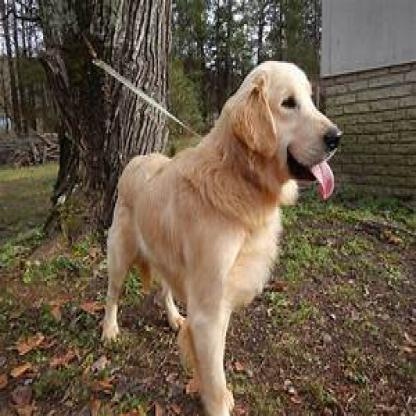dog: (104, 59, 347, 414)
